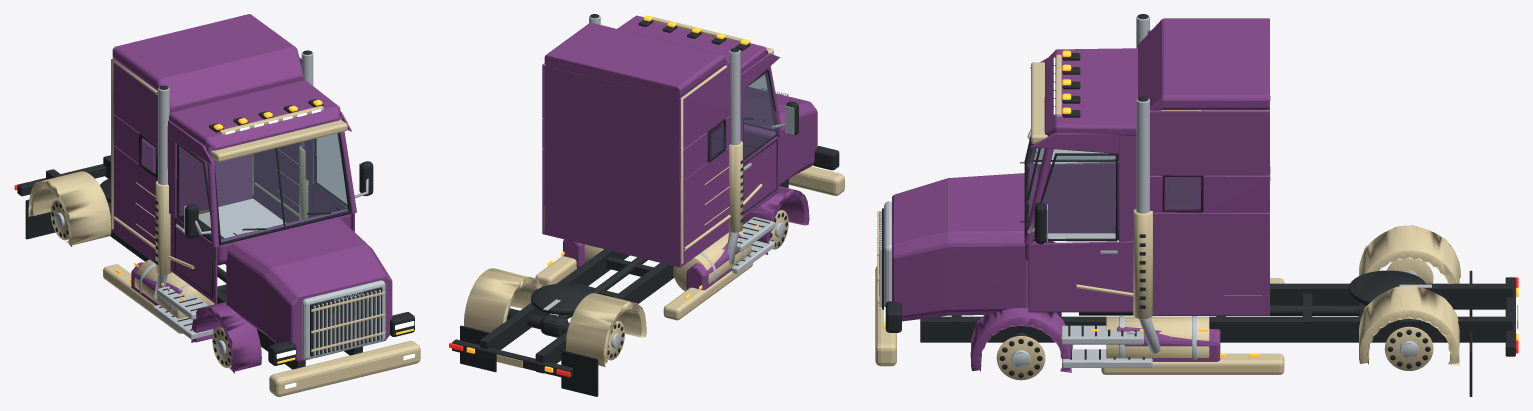
Rendered from RoadPalace_LOD1.fbx.
3 views of the same model, side by side, from view 1: azimuth 30°, elevation 25°; view 2: azimuth 150°, elevation 25°; view 3: azimuth 270°, elevation 25° (orthographic). The views are drawn at different scales.
Parts seen in each view (by area): view 1: CabExterior__TT_Paint_Primary.001, Chassis__TT_Paint_Primary.001, Chassis__TT_MetalTrim.001, CabExterior__TT_Glass.001, Chassis__TT_Chrome.001, Chassis__TT_Chassis.001, CabExterior__TT_MetalTrim.001, CabExterior__TT_Rubber.001, CabExterior__TT_Chrome.001, CabExterior__TT_Chassis.001, Chassis__TT_Rubber.001, Wheel_FR__TT_MetalTrim.001; view 2: CabExterior__TT_Paint_Primary.001, Chassis__TT_MetalTrim.001, Chassis__TT_Chassis.001, Chassis__TT_Paint_Primary.001, CabExterior__TT_Glass.001, Chassis__TT_Rubber.001, Chassis__TT_Chrome.001, CabExterior__TT_Chrome.001, CabExterior__TT_Rubber.001, CabExterior__TT_MetalTrim.001, CabExterior__TT_Chassis.001; view 3: CabExterior__TT_Paint_Primary.001, Chassis__TT_Paint_Primary.001, Chassis__TT_Chassis.001, Chassis__TT_MetalTrim.001, CabExterior__TT_Glass.001, Chassis__TT_Chrome.001, CabExterior__TT_Chrome.001, CabExterior__TT_Rubber.001, Wheel_FL__TT_MetalTrim.001, Wheel_RL__TT_MetalTrim.001, CabExterior__TT_Chassis.001, CabExterior__TT_MetalTrim.001 (+1 smaller).
Part boxes in pixels (<box>): CabExterior__TT_Paint_Primary.001: <box>112,14,356,303</box>; Chassis__TT_Paint_Primary.001: <box>131,217,392,373</box>; Chassis__TT_MetalTrim.001: <box>28,105,420,396</box>; CabExterior__TT_Glass.001: <box>141,133,347,241</box>; Chassis__TT_Chrome.001: <box>139,52,385,359</box>; Chassis__TT_Chassis.001: <box>17,50,414,369</box>; CabExterior__TT_MetalTrim.001: <box>111,59,347,238</box>; CabExterior__TT_Rubber.001: <box>139,133,351,330</box>; CabExterior__TT_Chrome.001: <box>153,178,368,339</box>; CabExterior__TT_Chassis.001: <box>185,99,373,238</box>; Chassis__TT_Rubber.001: <box>25,199,339,239</box>; Wheel_FR__TT_MetalTrim.001: <box>212,327,231,367</box>; CabExterior__TT_Paint_Primary.001: <box>542,15,782,267</box>; Chassis__TT_MetalTrim.001: <box>464,16,844,367</box>; Chassis__TT_Chassis.001: <box>452,14,839,378</box>; Chassis__TT_Paint_Primary.001: <box>563,87,817,290</box>; CabExterior__TT_Glass.001: <box>712,72,777,157</box>; Chassis__TT_Rubber.001: <box>460,119,765,396</box>; Chassis__TT_Chrome.001: <box>543,15,788,310</box>; CabExterior__TT_Chrome.001: <box>732,123,784,274</box>; CabExterior__TT_Rubber.001: <box>707,69,778,265</box>; CabExterior__TT_MetalTrim.001: <box>544,47,773,263</box>; CabExterior__TT_Chassis.001: <box>638,19,798,135</box>; CabExterior__TT_Paint_Primary.001: <box>1024,18,1270,315</box>; Chassis__TT_Paint_Primary.001: <box>892,173,1220,372</box>; Chassis__TT_Chassis.001: <box>882,14,1515,356</box>; Chassis__TT_MetalTrim.001: <box>875,54,1518,374</box>; CabExterior__TT_Glass.001: <box>1027,144,1197,238</box>; Chassis__TT_Chrome.001: <box>877,15,1431,359</box>; CabExterior__TT_Chrome.001: <box>1027,129,1152,367</box>; CabExterior__TT_Rubber.001: <box>1024,110,1203,359</box>; Wheel_FL__TT_MetalTrim.001: <box>996,336,1045,380</box>; Wheel_RL__TT_MetalTrim.001: <box>1384,326,1433,370</box>; CabExterior__TT_Chassis.001: <box>1027,53,1080,244</box>; CabExterior__TT_MetalTrim.001: <box>1031,62,1268,212</box>.
Size of the model in its own units: 312 by 407 by 793.
